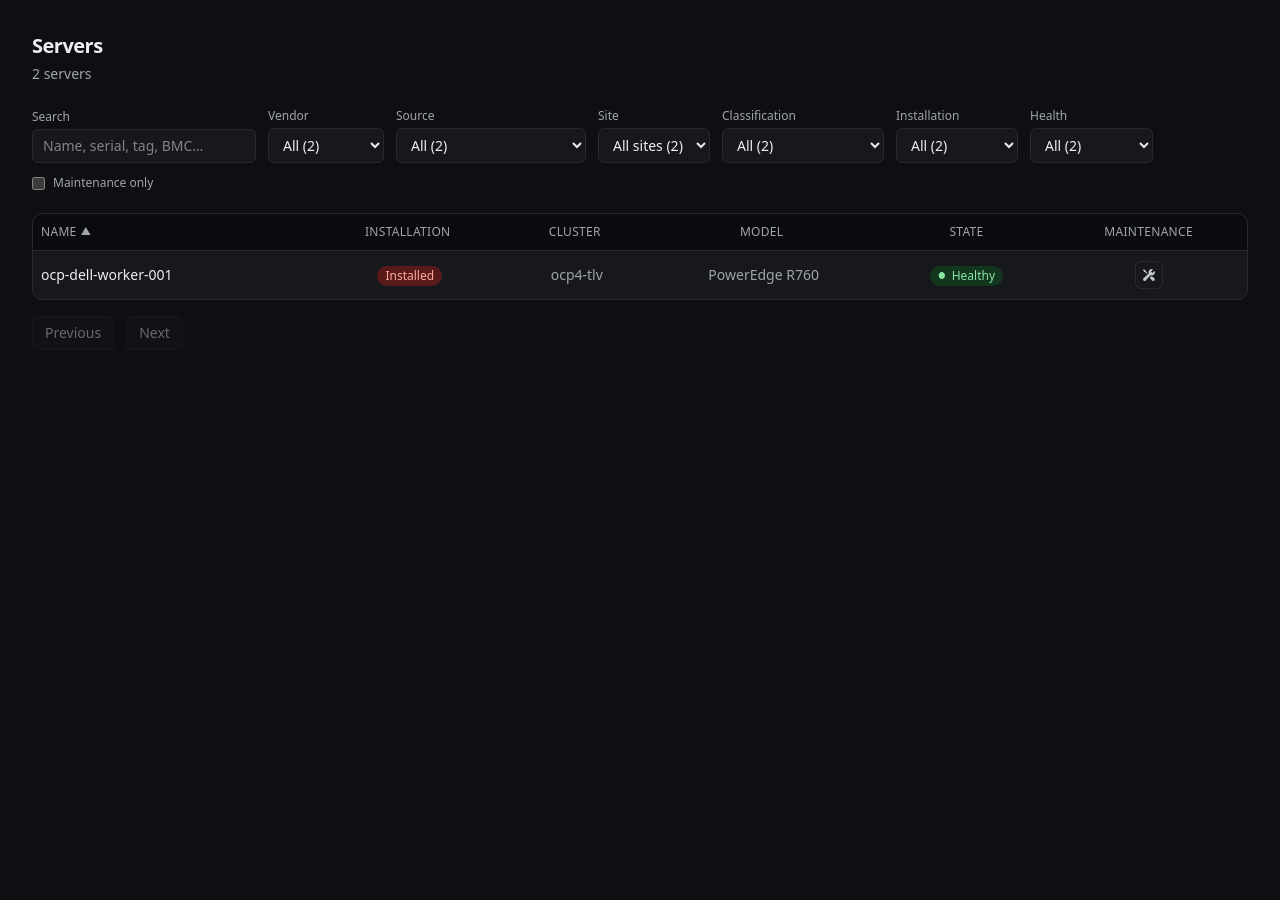
Scenario: InventoryPage › cancels the maintenance card without writing anything
Click the button named "Put ocp-dell-worker-001 into maintenance" at [1149, 275], box [1135,261,1163,289]
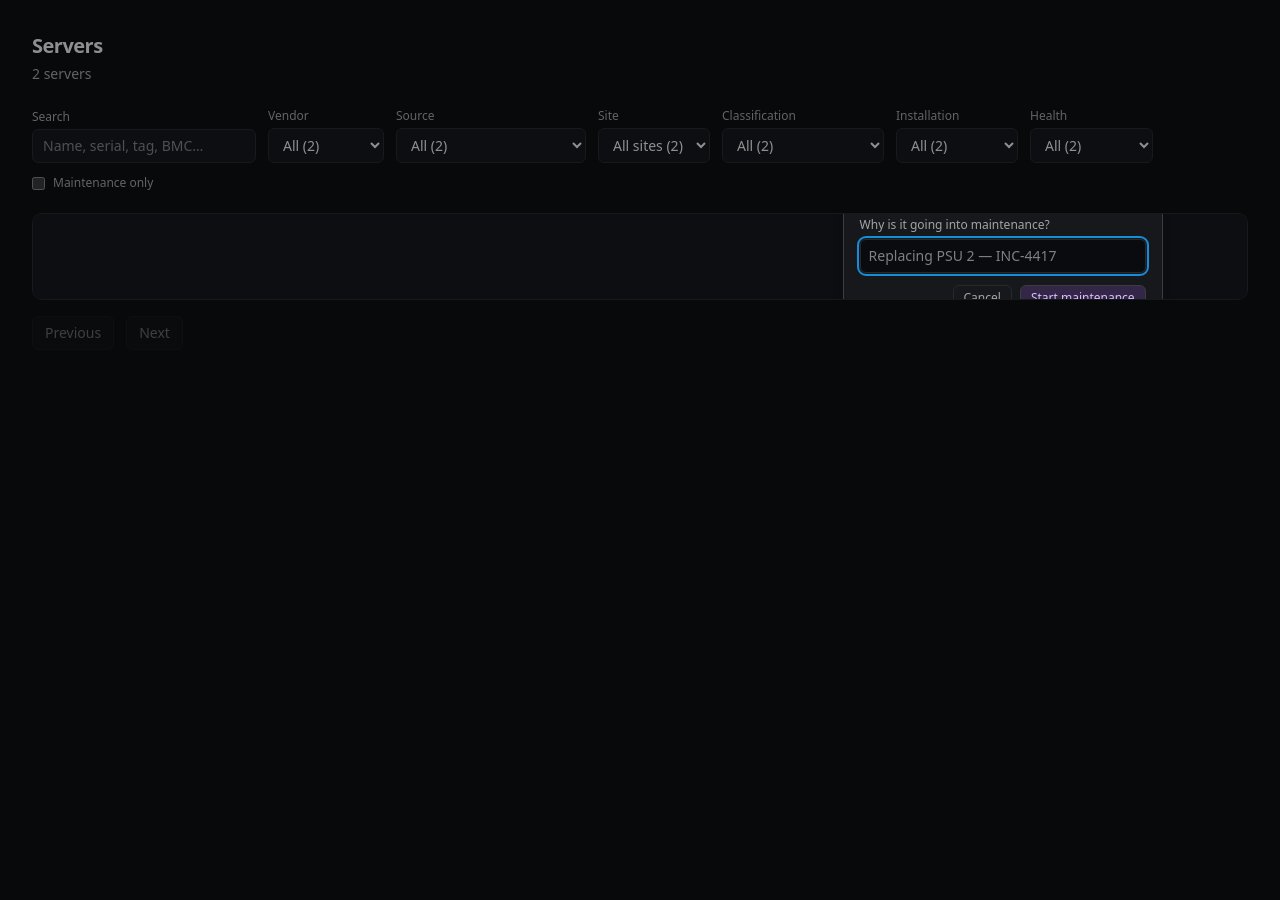
Click the button "Cancel" at [982, 298], box [952,285,1012,311]
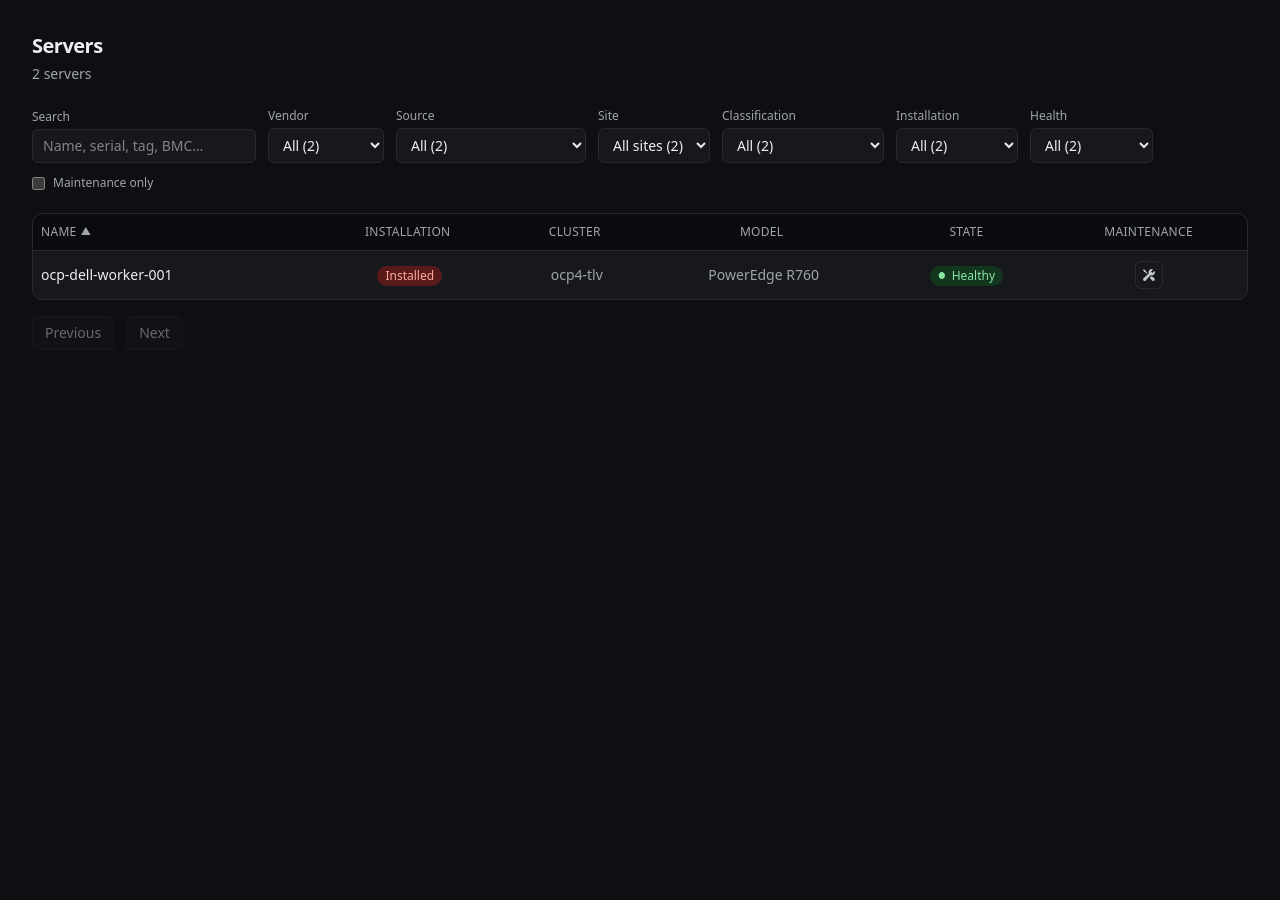
Expected: the dialog is gone
